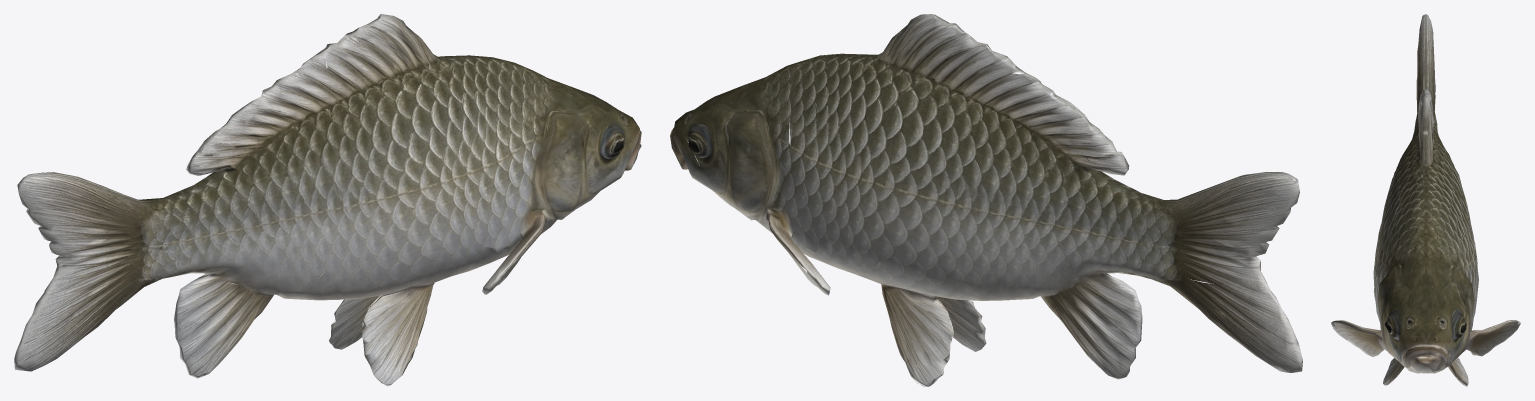
Rendered from crucian.glb.
The picture shows the model from 3 angles, left to right: view 1: azimuth 30°, elevation 25°; view 2: azimuth 150°, elevation 25°; view 3: azimuth 270°, elevation 25°; orthographic projection. The views are drawn at different scales.
Parts seen in each view (by area): view 1: crucian; view 2: crucian; view 3: crucian.
Part boxes in pixels (bbox=[...]): crucian: bbox=[14, 14, 641, 386]; crucian: bbox=[670, 14, 1302, 386]; crucian: bbox=[1331, 14, 1520, 386].
Bounding box in the file's own units: 1 × 0.5357 × 0.3116.
Materials: 1 (1 with a texture image).
